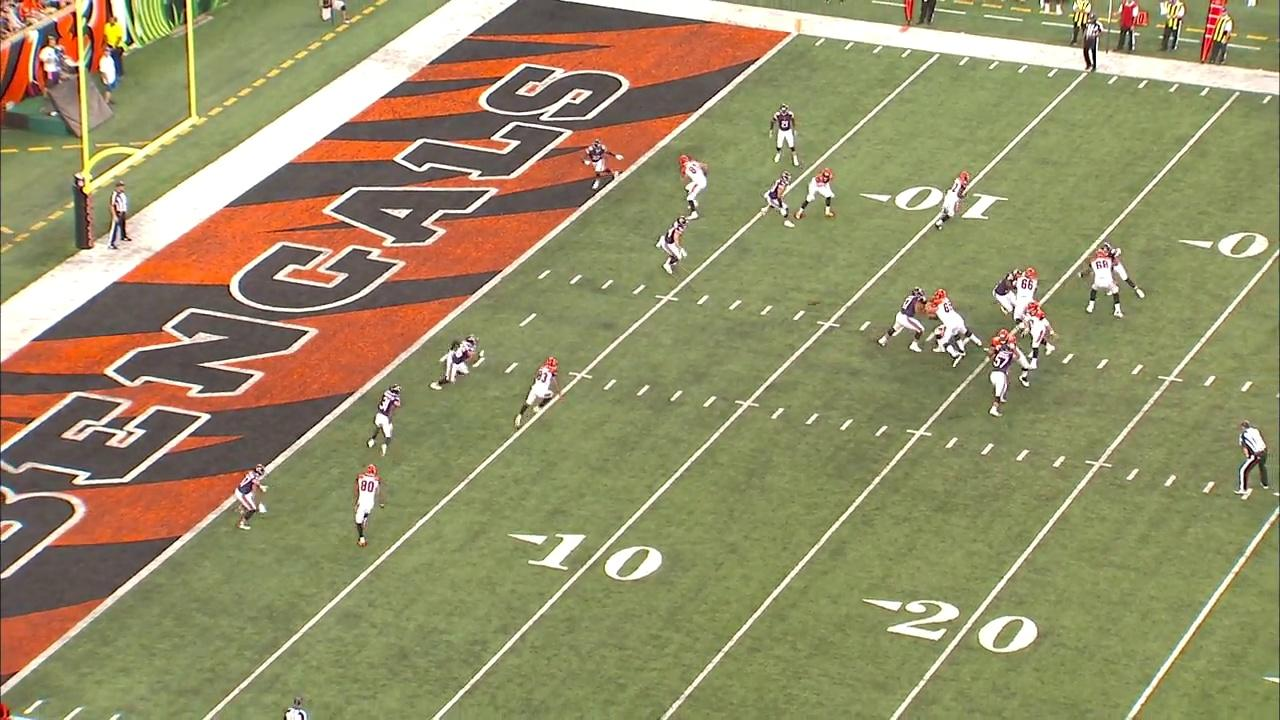five_hash: (1084, 459, 1115, 469), (733, 399, 761, 409), (816, 318, 841, 329), (906, 428, 933, 438), (567, 371, 594, 380), (1157, 374, 1184, 383), (655, 294, 681, 303)
hash: (1015, 446, 1031, 463), (979, 441, 996, 457), (838, 416, 854, 432), (1050, 454, 1067, 469), (804, 413, 821, 428), (701, 394, 718, 409), (601, 377, 618, 392), (598, 277, 616, 291), (1201, 479, 1217, 494), (943, 435, 959, 450), (873, 424, 888, 440), (567, 272, 584, 286), (790, 307, 807, 321), (668, 389, 685, 403), (758, 303, 774, 317), (632, 281, 647, 295), (1125, 467, 1140, 481), (770, 406, 785, 420), (1061, 352, 1077, 365), (1238, 380, 1254, 393), (502, 362, 519, 374), (1202, 374, 1216, 388), (1164, 474, 1178, 488), (1129, 363, 1144, 376), (636, 384, 651, 397), (536, 268, 553, 279), (727, 300, 744, 311), (695, 293, 709, 305), (1097, 358, 1111, 370), (859, 321, 872, 332)
marker: (1200, 0, 1229, 66)
number: (857, 587, 1047, 656), (501, 523, 671, 586), (858, 178, 1005, 228)
player: (794, 18, 804, 35)
